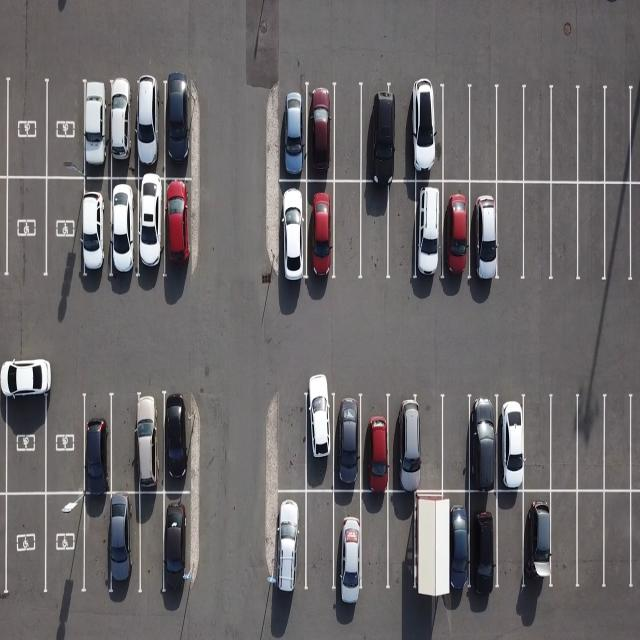space-empty: (4, 378, 46, 496), (45, 385, 88, 494), (1, 495, 45, 599), (3, 176, 45, 283), (45, 494, 88, 596), (46, 175, 85, 284), (5, 75, 45, 178), (110, 396, 148, 497), (304, 490, 339, 598), (47, 80, 85, 179), (545, 490, 581, 594), (272, 395, 310, 491), (356, 492, 391, 596), (331, 82, 367, 182), (493, 486, 527, 591), (572, 487, 607, 588), (331, 182, 365, 284), (436, 396, 472, 492), (602, 491, 636, 592), (493, 178, 526, 282), (383, 182, 417, 281), (80, 494, 113, 596), (135, 492, 167, 596), (523, 182, 556, 282), (381, 492, 414, 592), (547, 396, 581, 493), (572, 88, 606, 185), (573, 396, 607, 493), (574, 181, 606, 283), (357, 183, 390, 281), (606, 182, 637, 286), (523, 395, 556, 491), (523, 88, 556, 183), (468, 87, 500, 184), (549, 181, 580, 281), (438, 88, 470, 184), (414, 399, 446, 495), (605, 85, 636, 182), (604, 396, 635, 492), (493, 88, 524, 183), (550, 88, 580, 183), (390, 86, 417, 187)
space-occupied: (272, 488, 311, 597), (411, 494, 448, 604), (359, 83, 399, 181), (124, 394, 163, 494), (467, 491, 503, 599), (162, 493, 199, 597), (331, 486, 366, 594), (424, 493, 458, 604), (163, 177, 200, 276), (305, 181, 340, 285), (439, 492, 472, 601), (110, 493, 144, 597), (467, 180, 501, 284), (413, 180, 447, 283), (134, 176, 168, 279), (161, 396, 196, 496), (390, 395, 426, 492), (437, 182, 471, 284), (77, 176, 110, 281), (466, 398, 502, 494), (523, 486, 556, 590), (109, 176, 142, 280), (410, 86, 445, 184), (492, 396, 528, 490), (280, 178, 311, 287), (358, 396, 393, 492), (302, 392, 336, 490), (332, 393, 366, 489), (81, 393, 113, 494), (306, 84, 338, 184), (132, 81, 164, 178), (164, 81, 194, 178), (80, 82, 110, 178), (281, 85, 310, 182), (110, 83, 138, 179)
